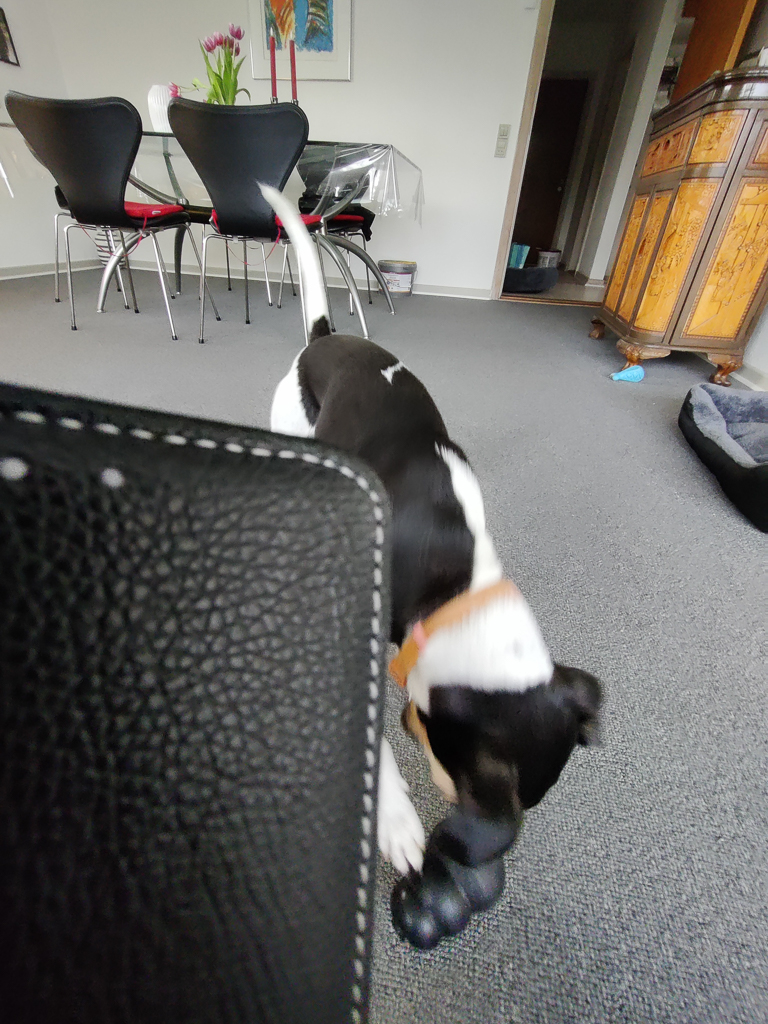Dog: (222, 163, 628, 900)
